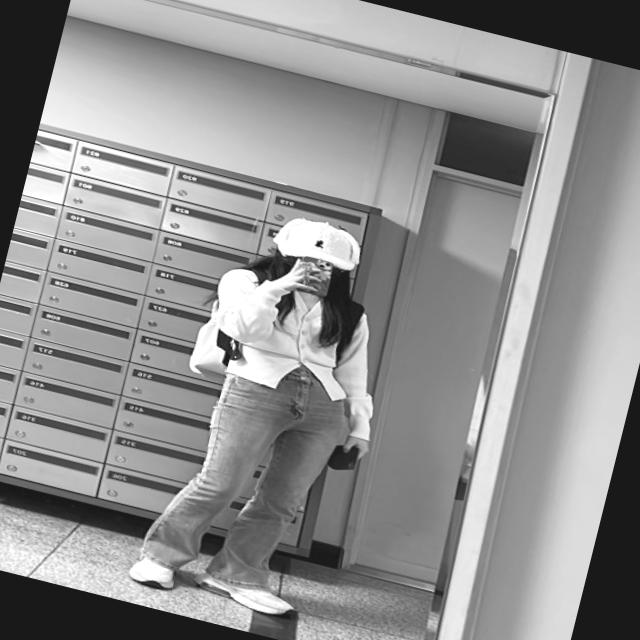cardigan: (194, 262, 404, 444)
denimpants: (133, 337, 368, 603)
